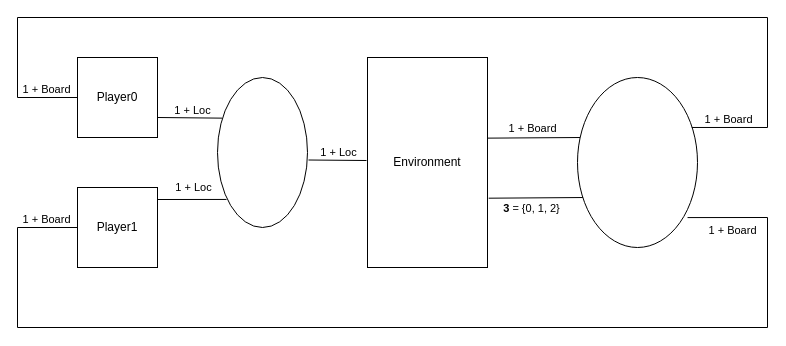
This 786x346 diagram has some shape labels left out. Each missing label, with the box of its shape:
demux(Board,2): (576, 76, 698, 248)
mux(Loc,2): (216, 76, 308, 228)
